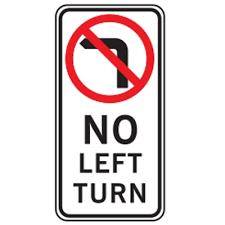no_left_turn: (64, 13, 153, 102)
